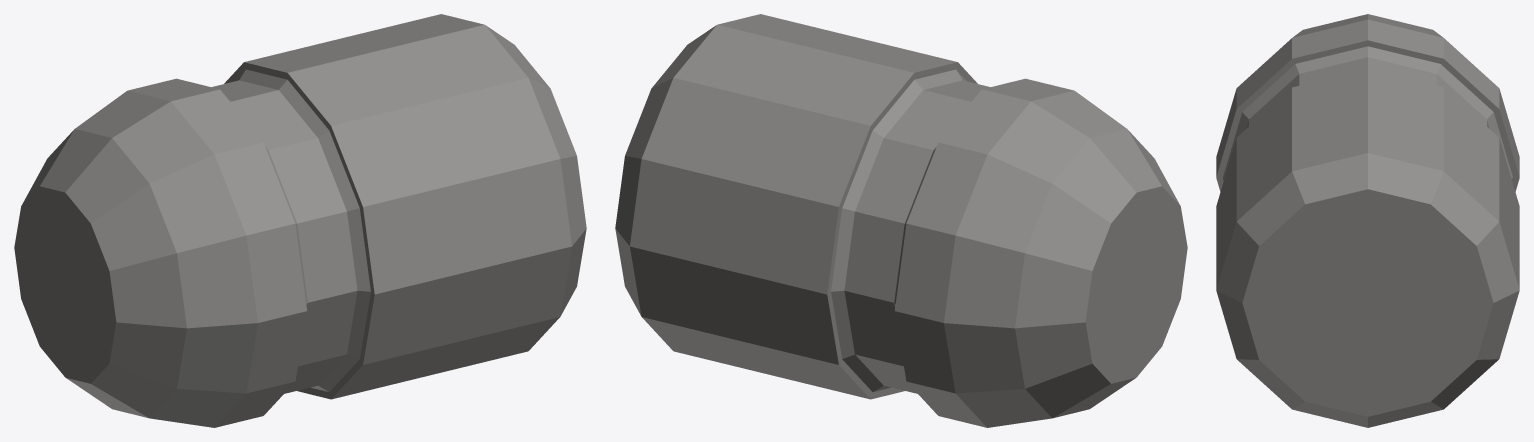
Rendered from BulletNormal.glb.
The picture shows the model from 3 angles, left to right: view 1: azimuth 30°, elevation 25°; view 2: azimuth 150°, elevation 25°; view 3: azimuth 270°, elevation 25°; orthographic projection. The views are drawn at different scales.
Visible parts, largest first — view 1: Cylinder; view 2: Cylinder; view 3: Cylinder.
Boxes of the visible parts, x1=… form: Cylinder: x1=14, y1=14, x2=586, y2=427; Cylinder: x1=615, y1=14, x2=1187, y2=427; Cylinder: x1=1216, y1=14, x2=1519, y2=427.
Bounding box in the file's own units: 0.1232 × 0.0828 × 0.0828.
Materials: 1 (1 with a texture image).
